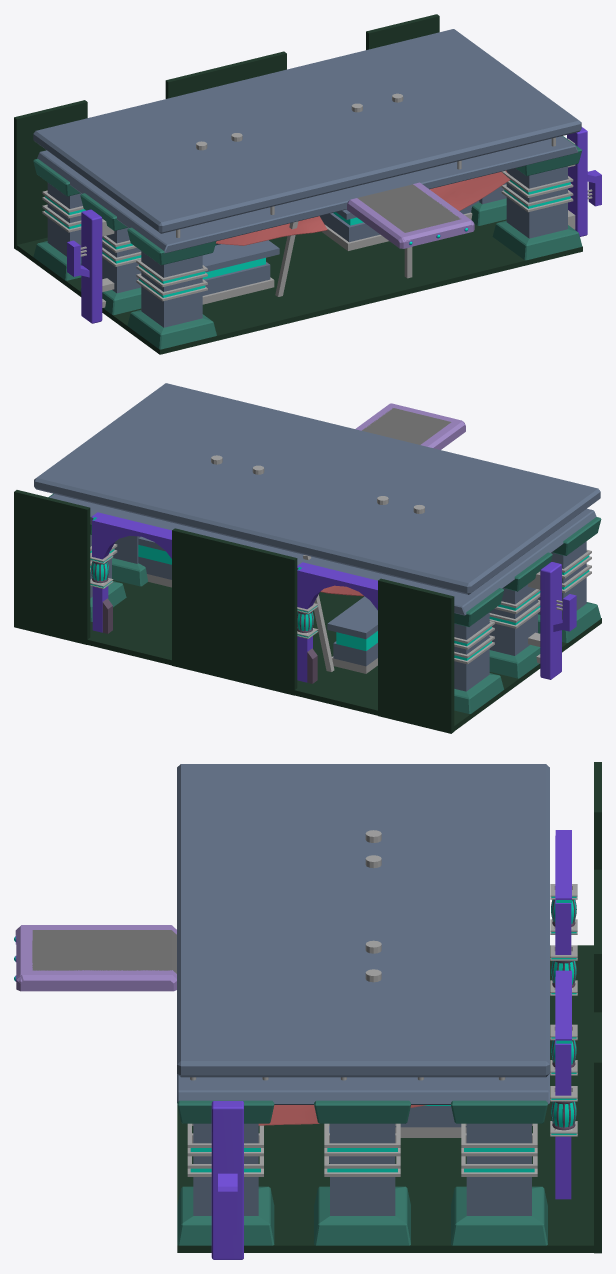
Rendered from Market_UV.fbx.
3 renders of one model, top to bottom at view 1: azimuth 30°, elevation 25°; view 2: azimuth 150°, elevation 25°; view 3: azimuth 270°, elevation 25°, orthographic. The views are drawn at different scales.
Visible parts, largest first — view 1: Market_UV; view 2: Market_UV; view 3: Market_UV.
Boxes of the visible parts, left/top/right/bottom form: Market_UV: left=14, top=14, right=601, bottom=354; Market_UV: left=14, top=383, right=601, bottom=733; Market_UV: left=14, top=762, right=601, bottom=1259.
Bounding box in the file's own units: 2532 × 722 × 1819.
